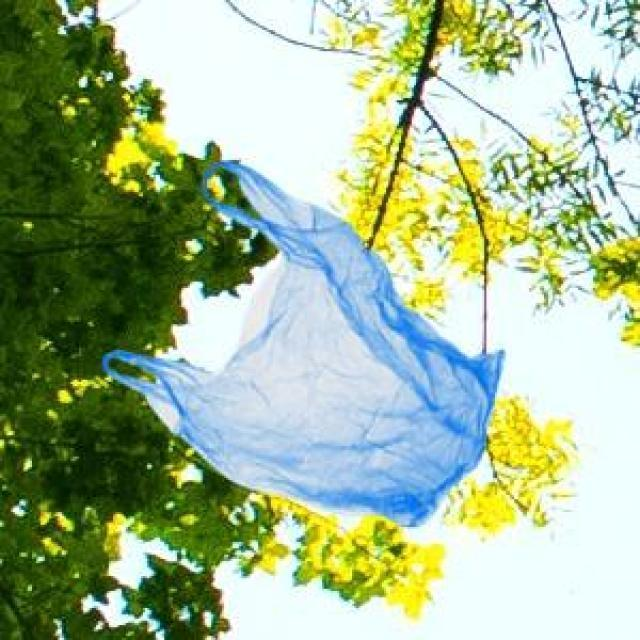waste: (104, 162, 502, 524)
